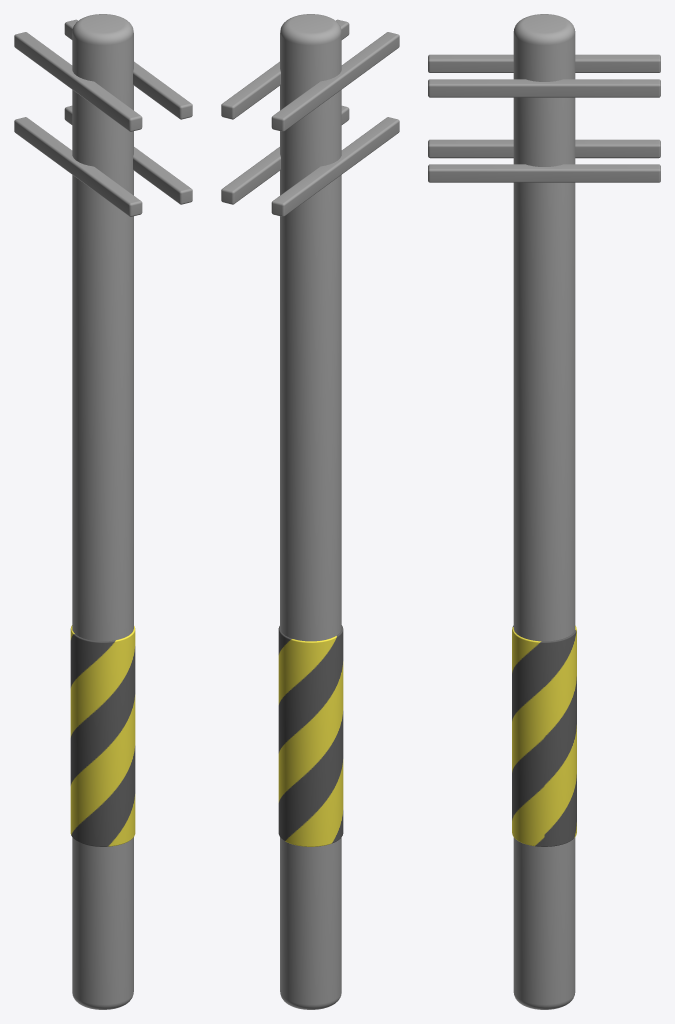
The model's file is pole.glb.
3 renders of one model, left to right at view 1: azimuth 30°, elevation 25°; view 2: azimuth 150°, elevation 25°; view 3: azimuth 270°, elevation 25°, orthographic.
Visible parts, largest first — view 1: Cube_4; view 2: Cube_4; view 3: Cube_4.
Boxes of the visible parts, bbox=[...] form: Cube_4: bbox=[14, 14, 192, 1009]; Cube_4: bbox=[221, 14, 399, 1009]; Cube_4: bbox=[428, 14, 660, 1009].
Bounding box in the file's own units: 0.63 × 9.25 × 2.
3 materials, 1 textured.
